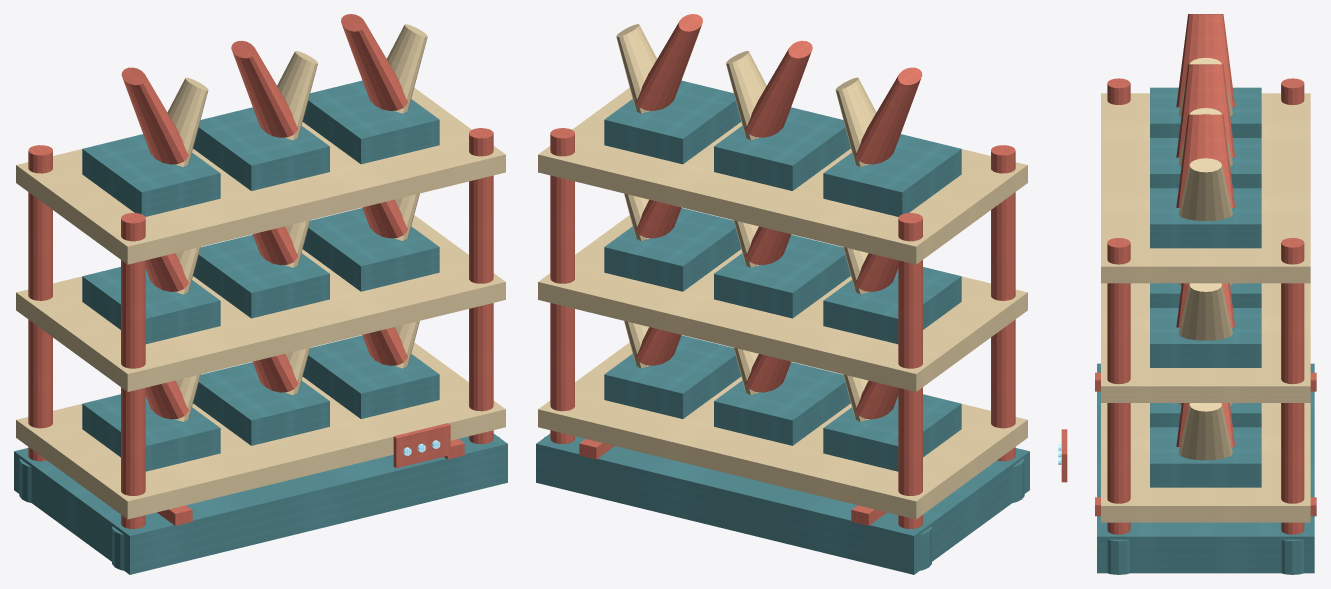
The model's file is atlas100-s076-a01.glb.
The picture shows the model from 3 angles, left to right: view 1: azimuth 30°, elevation 25°; view 2: azimuth 150°, elevation 25°; view 3: azimuth 270°, elevation 25°; orthographic projection. The views are drawn at different scales.
Parts seen in each view (by area): view 1: atlas100-s076-a01:part-000, atlas100-s076-a01:part-031, atlas100-s076-a01:part-021, atlas100-s076-a01:part-011, atlas100-s076-a01:part-032, atlas100-s076-a01:part-018, atlas100-s076-a01:part-028, atlas100-s076-a01:part-038, atlas100-s076-a01:part-015, atlas100-s076-a01:part-035, atlas100-s076-a01:part-025, atlas100-s076-a01:part-005 (+17 smaller); view 2: atlas100-s076-a01:part-000, atlas100-s076-a01:part-031, atlas100-s076-a01:part-021, atlas100-s076-a01:part-011, atlas100-s076-a01:part-032, atlas100-s076-a01:part-018, atlas100-s076-a01:part-028, atlas100-s076-a01:part-038, atlas100-s076-a01:part-015, atlas100-s076-a01:part-035, atlas100-s076-a01:part-025, atlas100-s076-a01:part-003 (+16 smaller); view 3: atlas100-s076-a01:part-031, atlas100-s076-a01:part-011, atlas100-s076-a01:part-021, atlas100-s076-a01:part-000, atlas100-s076-a01:part-009, atlas100-s076-a01:part-007, atlas100-s076-a01:part-038, atlas100-s076-a01:part-018, atlas100-s076-a01:part-028, atlas100-s076-a01:part-035, atlas100-s076-a01:part-032, atlas100-s076-a01:part-040 (+16 smaller).
Boxes of the visible parts, box(x1,y1,x2,y2) form: atlas100-s076-a01:part-000: box(14, 433, 507, 574); atlas100-s076-a01:part-031: box(16, 88, 505, 264); atlas100-s076-a01:part-021: box(16, 215, 505, 391); atlas100-s076-a01:part-011: box(16, 342, 505, 519); atlas100-s076-a01:part-032: box(82, 134, 220, 216); atlas100-s076-a01:part-018: box(302, 335, 439, 418); atlas100-s076-a01:part-028: box(303, 208, 439, 291); atlas100-s076-a01:part-038: box(302, 80, 439, 164); atlas100-s076-a01:part-015: box(193, 362, 329, 445); atlas100-s076-a01:part-035: box(193, 107, 329, 190); atlas100-s076-a01:part-025: box(193, 234, 329, 318); atlas100-s076-a01:part-005: box(121, 213, 145, 528); atlas100-s076-a01:part-000: box(536, 433, 1029, 574); atlas100-s076-a01:part-031: box(538, 88, 1027, 264); atlas100-s076-a01:part-021: box(538, 215, 1027, 391); atlas100-s076-a01:part-011: box(538, 342, 1027, 519); atlas100-s076-a01:part-032: box(823, 134, 961, 216); atlas100-s076-a01:part-018: box(604, 335, 741, 418); atlas100-s076-a01:part-028: box(604, 208, 740, 291); atlas100-s076-a01:part-038: box(604, 80, 741, 164); atlas100-s076-a01:part-015: box(714, 362, 850, 445); atlas100-s076-a01:part-035: box(714, 107, 850, 190); atlas100-s076-a01:part-025: box(714, 234, 850, 318); atlas100-s076-a01:part-003: box(898, 213, 922, 528); atlas100-s076-a01:part-031: box(1101, 93, 1310, 283); atlas100-s076-a01:part-011: box(1101, 403, 1310, 522); atlas100-s076-a01:part-021: box(1101, 283, 1310, 402); atlas100-s076-a01:part-000: box(1097, 363, 1314, 573); atlas100-s076-a01:part-009: box(1107, 238, 1130, 534); atlas100-s076-a01:part-007: box(1281, 238, 1304, 534); atlas100-s076-a01:part-038: box(1150, 188, 1261, 248); atlas100-s076-a01:part-018: box(1150, 427, 1261, 487); atlas100-s076-a01:part-028: box(1150, 308, 1261, 367); atlas100-s076-a01:part-035: box(1150, 138, 1261, 188); atlas100-s076-a01:part-032: box(1150, 87, 1261, 137); atlas100-s076-a01:part-040: box(1178, 158, 1232, 221).
Bounding box in the file's own units: 2.69 × 2.97 × 1.66.
Materials: 4 (4 with a texture image).
